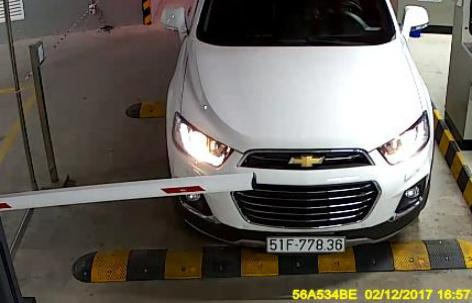License_Plate: (263, 235, 350, 257)
